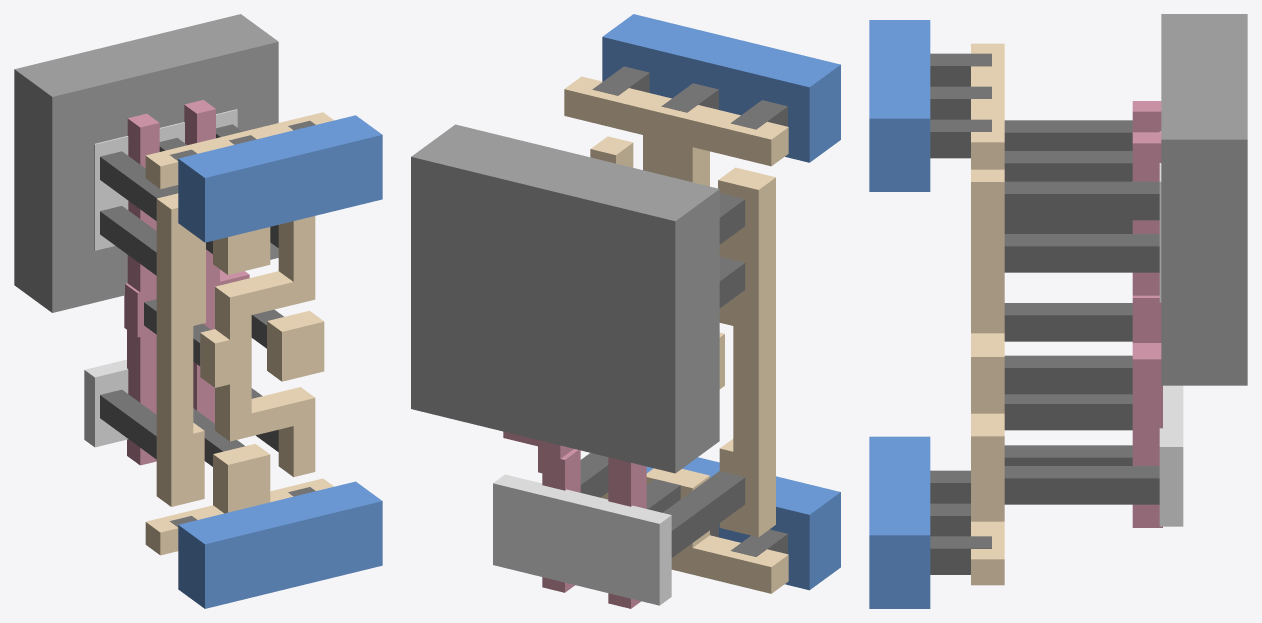
File: sky130_fd_sc_hd__clkbuf_1.gds.gltf
The picture shows the model from 3 angles, left to right: view 1: azimuth 30°, elevation 25°; view 2: azimuth 150°, elevation 25°; view 3: azimuth 270°, elevation 25°; orthographic projection. The views are drawn at different scales.
Visible parts, largest first — view 1: sky130_fd_sc_hd__clkbuf_1_li1, sky130_fd_sc_hd__clkbuf_1_nwell, sky130_fd_sc_hd__clkbuf_1_met1, sky130_fd_sc_hd__clkbuf_1_licon, sky130_fd_sc_hd__clkbuf_1_poly, sky130_fd_sc_hd__clkbuf_1_diff, sky130_fd_sc_hd__clkbuf_1_mcon; view 2: sky130_fd_sc_hd__clkbuf_1_nwell, sky130_fd_sc_hd__clkbuf_1_li1, sky130_fd_sc_hd__clkbuf_1_met1, sky130_fd_sc_hd__clkbuf_1_diff, sky130_fd_sc_hd__clkbuf_1_licon, sky130_fd_sc_hd__clkbuf_1_poly, sky130_fd_sc_hd__clkbuf_1_mcon; view 3: sky130_fd_sc_hd__clkbuf_1_licon, sky130_fd_sc_hd__clkbuf_1_nwell, sky130_fd_sc_hd__clkbuf_1_met1, sky130_fd_sc_hd__clkbuf_1_li1, sky130_fd_sc_hd__clkbuf_1_mcon, sky130_fd_sc_hd__clkbuf_1_poly, sky130_fd_sc_hd__clkbuf_1_diff.
Boxes of the visible parts, left/top/right/bottom form: sky130_fd_sc_hd__clkbuf_1_li1: left=145, top=112, right=333, bottom=555; sky130_fd_sc_hd__clkbuf_1_nwell: left=14, top=14, right=278, bottom=312; sky130_fd_sc_hd__clkbuf_1_met1: left=178, top=115, right=382, bottom=608; sky130_fd_sc_hd__clkbuf_1_licon: left=100, top=124, right=283, bottom=466; sky130_fd_sc_hd__clkbuf_1_poly: left=124, top=100, right=249, bottom=465; sky130_fd_sc_hd__clkbuf_1_diff: left=84, top=109, right=237, bottom=447; sky130_fd_sc_hd__clkbuf_1_mcon: left=170, top=120, right=315, bottom=527; sky130_fd_sc_hd__clkbuf_1_nwell: left=411, top=124, right=719, bottom=473; sky130_fd_sc_hd__clkbuf_1_li1: left=564, top=76, right=788, bottom=593; sky130_fd_sc_hd__clkbuf_1_met1: left=602, top=14, right=840, bottom=590; sky130_fd_sc_hd__clkbuf_1_diff: left=493, top=474, right=671, bottom=605; sky130_fd_sc_hd__clkbuf_1_licon: left=580, top=193, right=745, bottom=557; sky130_fd_sc_hd__clkbuf_1_poly: left=503, top=431, right=646, bottom=608; sky130_fd_sc_hd__clkbuf_1_mcon: left=592, top=66, right=787, bottom=556; sky130_fd_sc_hd__clkbuf_1_licon: left=1004, top=120, right=1159, bottom=504; sky130_fd_sc_hd__clkbuf_1_nwell: left=1161, top=14, right=1247, bottom=385; sky130_fd_sc_hd__clkbuf_1_met1: left=869, top=20, right=930, bottom=608; sky130_fd_sc_hd__clkbuf_1_li1: left=971, top=43, right=1004, bottom=585; sky130_fd_sc_hd__clkbuf_1_mcon: left=930, top=53, right=991, bottom=574; sky130_fd_sc_hd__clkbuf_1_poly: left=1132, top=101, right=1162, bottom=527; sky130_fd_sc_hd__clkbuf_1_diff: left=1159, top=131, right=1183, bottom=526.
Bounding box in the file's own units: 1.76 × 3.2 × 2.24.
